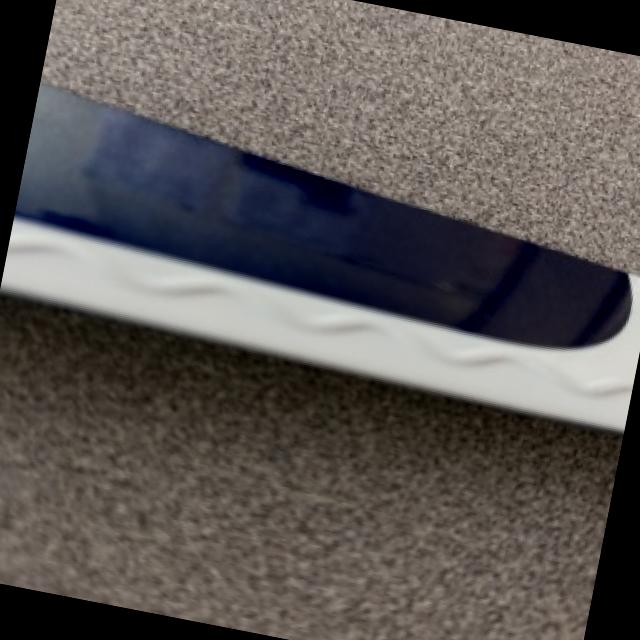healthy: (0, 81, 640, 429)
